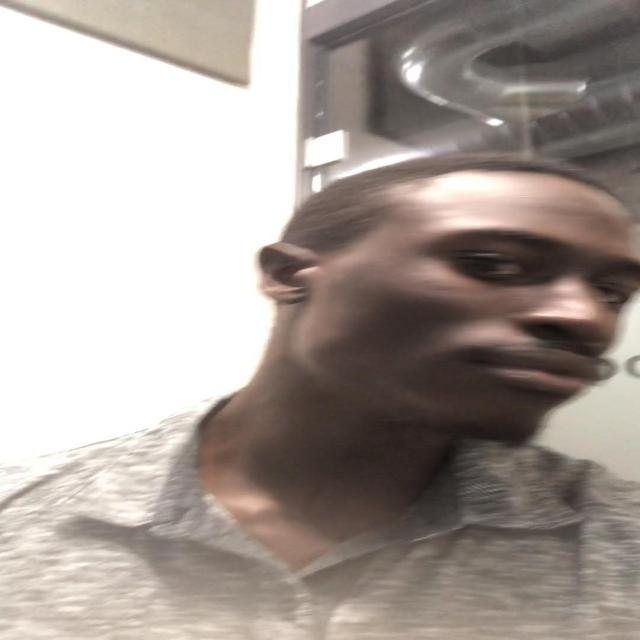face: (282, 204, 640, 443)
